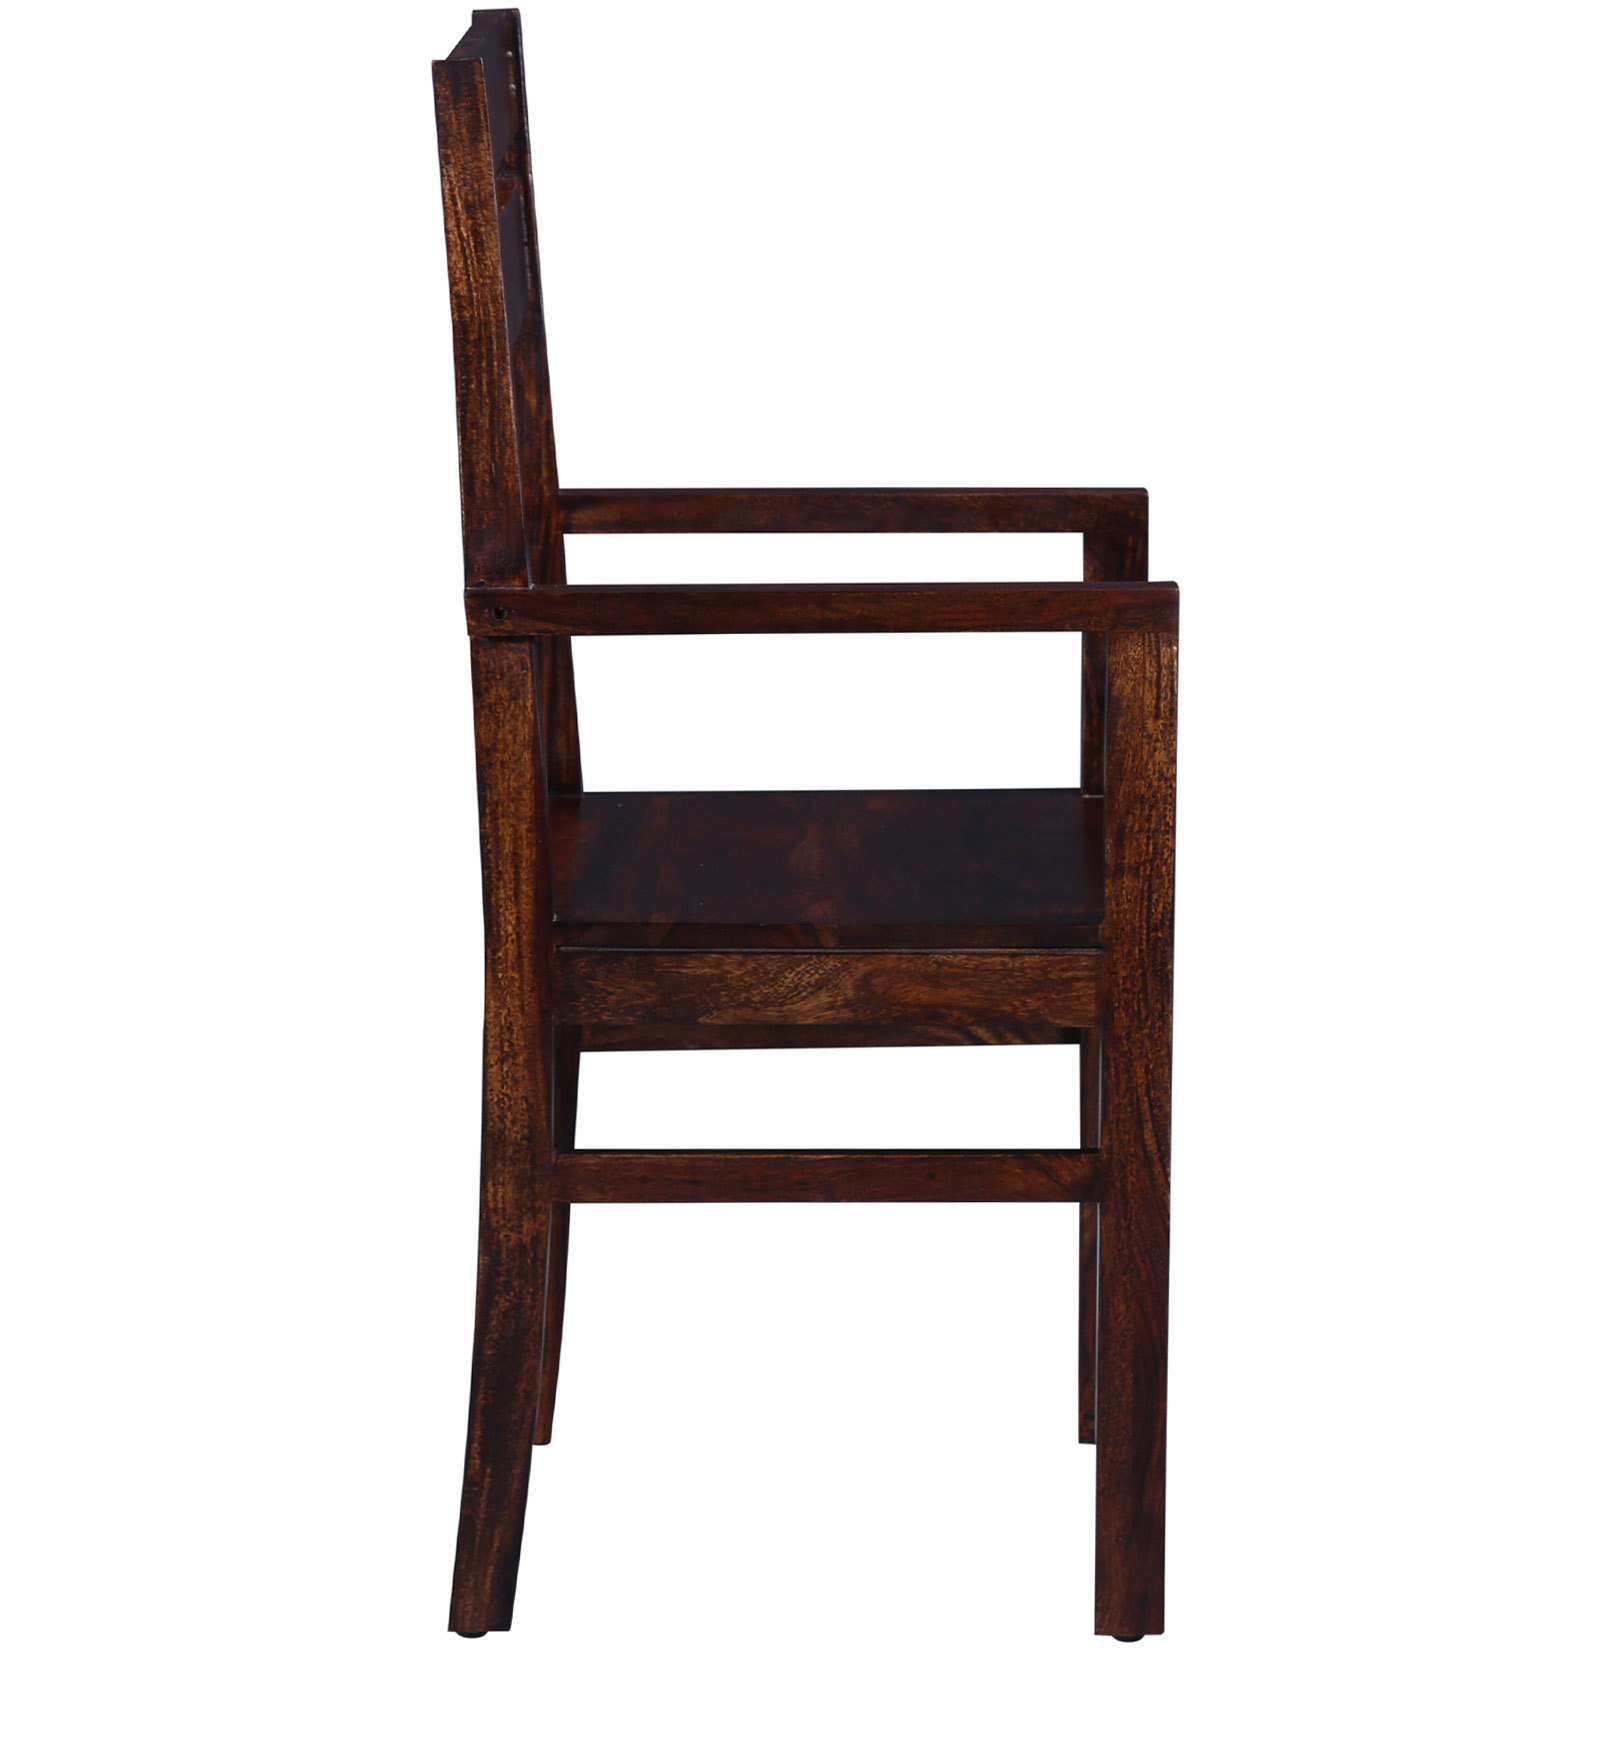Enkel Arm Chair in Provincial Teak Finish by Woodsworth: (336, 2, 1258, 1702)
